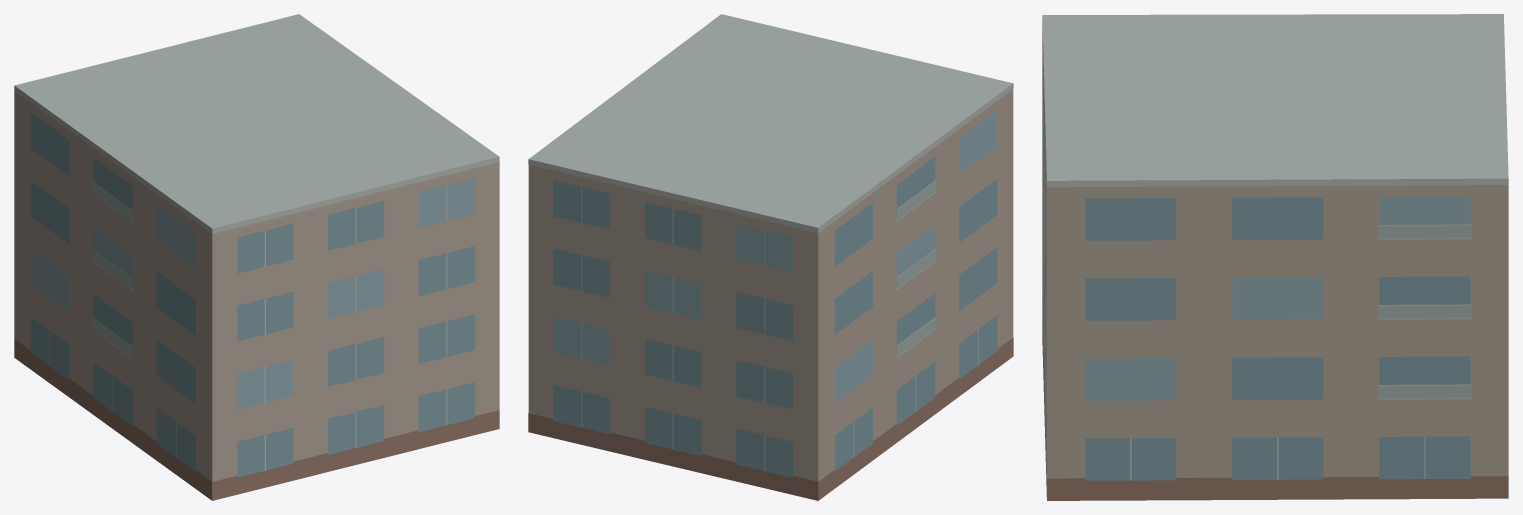
File: survey-upis-32644587.glb
3 renders of one model, left to right at view 1: azimuth 30°, elevation 25°; view 2: azimuth 150°, elevation 25°; view 3: azimuth 270°, elevation 25°, orthographic. The views are drawn at different scales.
Parts seen in each view (by area): view 1: survey-upis-32644587.tmp; view 2: survey-upis-32644587.tmp; view 3: survey-upis-32644587.tmp.
Part boxes in pixels (bbox=[...]): survey-upis-32644587.tmp: bbox=[14, 14, 499, 500]; survey-upis-32644587.tmp: bbox=[528, 14, 1013, 500]; survey-upis-32644587.tmp: bbox=[1042, 14, 1508, 500].
Size of the model in its own units: 13.66 by 12.2 by 16.12.
